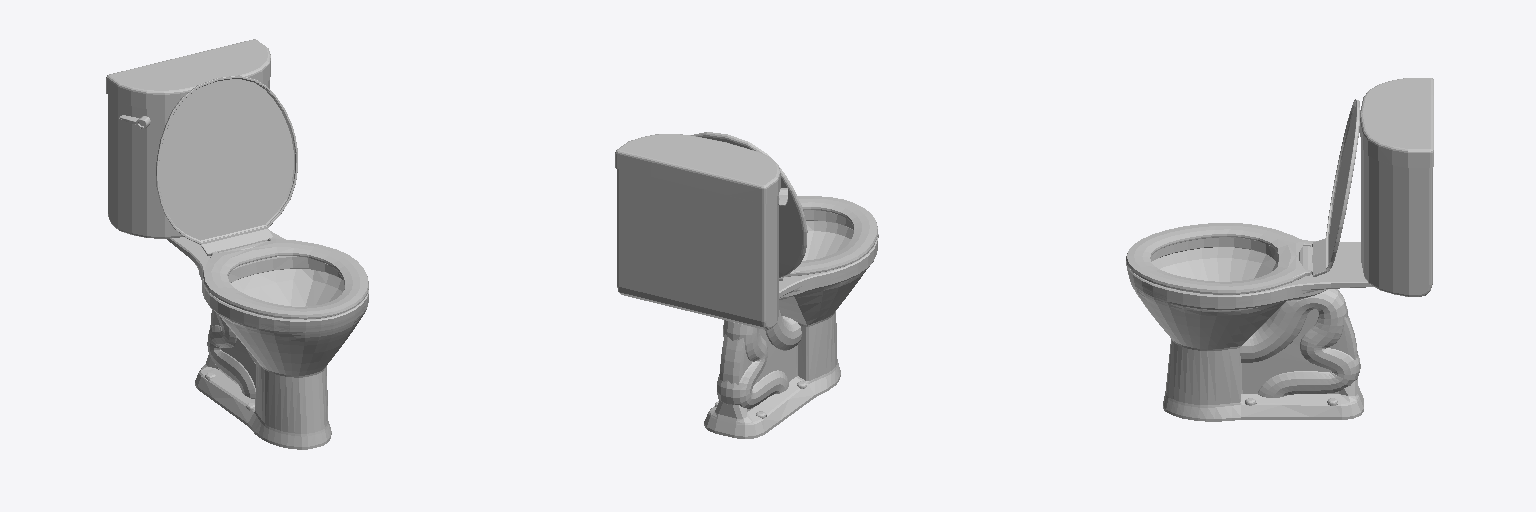
File: toilet.obj
3 views of the same model, side by side, from view 1: azimuth 30°, elevation 25°; view 2: azimuth 150°, elevation 25°; view 3: azimuth 270°, elevation 25° (orthographic).
Parts seen in each view (by area): view 1: Circle.004_Circle.006; view 2: Circle.004_Circle.006; view 3: Circle.004_Circle.006.
Part boxes in pixels (x1,y1,x2,y2): Circle.004_Circle.006: (106, 39, 368, 449); Circle.004_Circle.006: (615, 132, 878, 438); Circle.004_Circle.006: (1126, 78, 1433, 421).
Size of the model in its own units: 0.485 by 0.8976 by 0.8398.